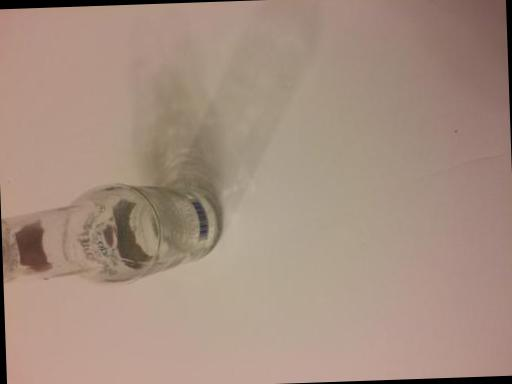glass: (0, 162, 220, 316)
